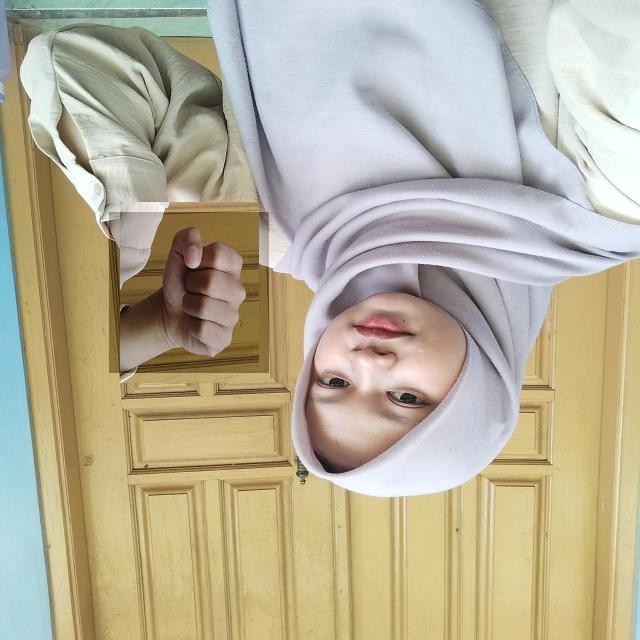baik: (109, 212, 269, 373)
